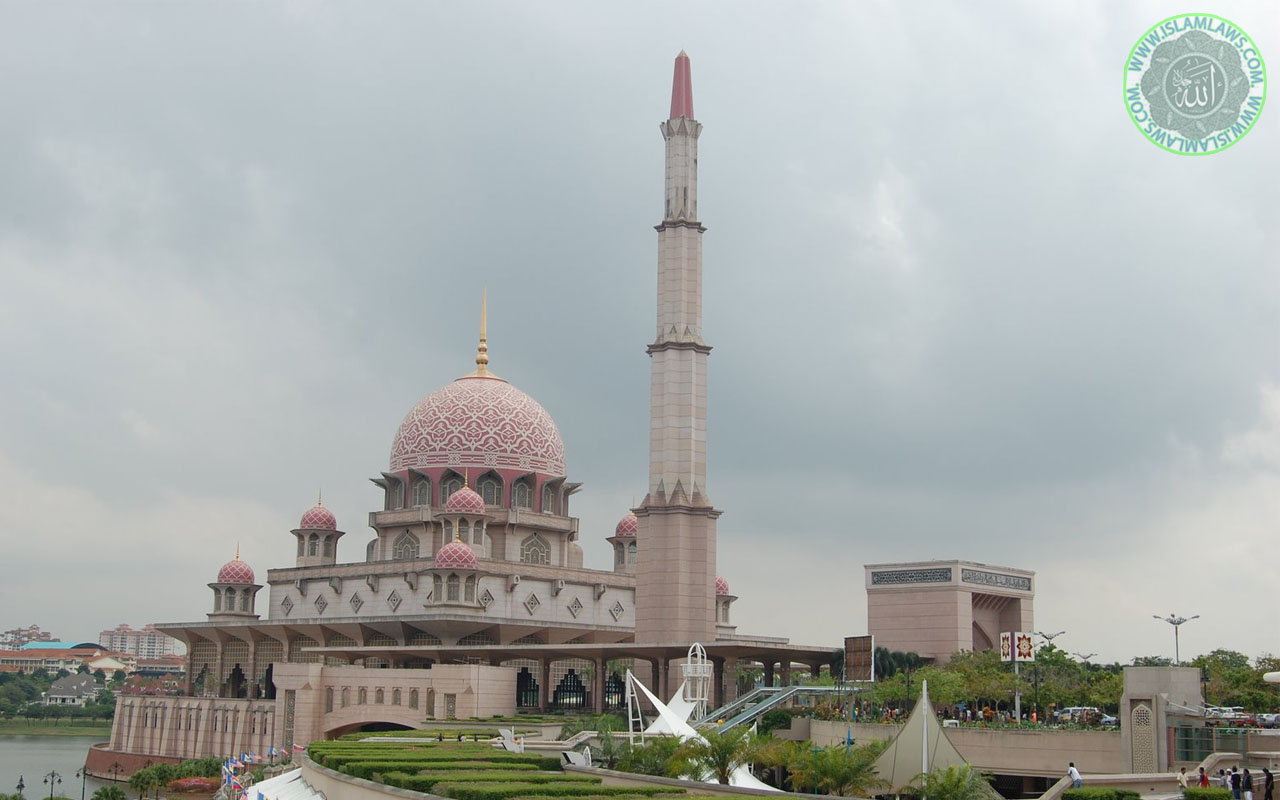Mosque: (206, 49, 734, 686)
